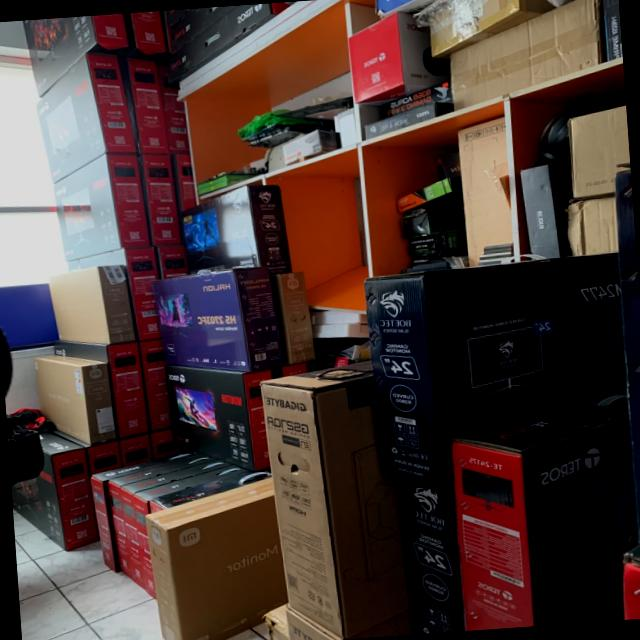caja-monitor: (365, 255, 624, 485), (262, 366, 407, 638), (146, 477, 287, 640), (130, 466, 247, 589), (154, 267, 283, 371), (107, 453, 212, 574), (91, 450, 197, 568), (38, 56, 136, 181), (166, 364, 272, 470), (55, 154, 150, 267), (183, 185, 292, 273), (14, 434, 97, 549), (25, 13, 127, 90), (35, 355, 116, 444), (50, 265, 134, 344), (149, 469, 268, 514), (128, 58, 170, 154), (109, 342, 149, 438), (125, 248, 161, 342), (144, 155, 181, 245), (131, 10, 168, 54), (85, 441, 121, 474), (121, 434, 151, 466), (154, 430, 175, 456)
